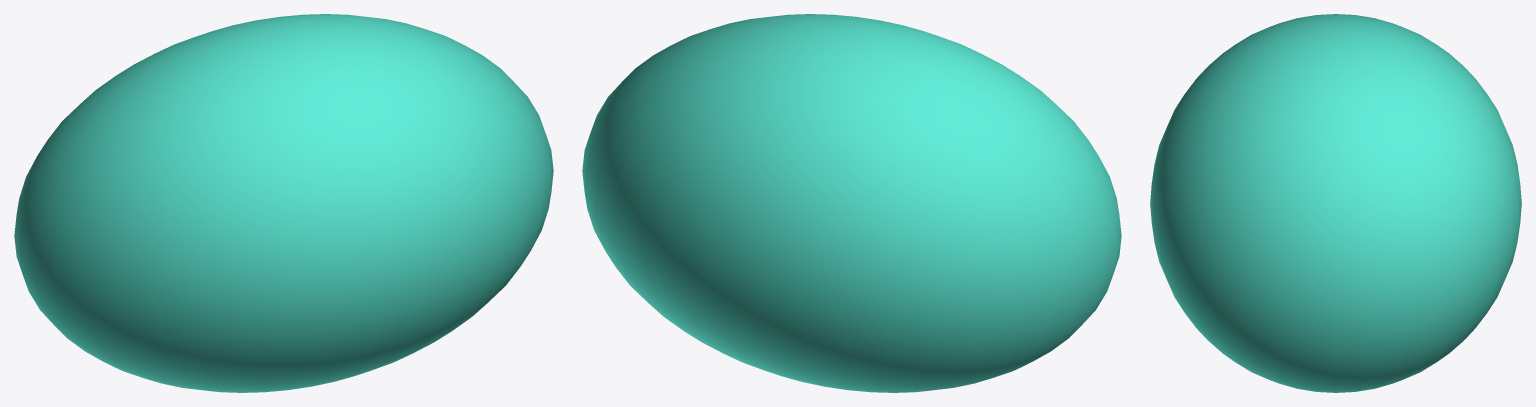
File: cell-membrane.glb
The picture shows the model from 3 angles, left to right: view 1: azimuth 30°, elevation 25°; view 2: azimuth 150°, elevation 25°; view 3: azimuth 270°, elevation 25°; orthographic projection. The views are drawn at different scales.
Parts seen in each view (by area): view 1: Cell Membrane; view 2: Cell Membrane; view 3: Cell Membrane.
Boxes of the visible parts, x1=… form: Cell Membrane: x1=14, y1=14, x2=553, y2=392; Cell Membrane: x1=582, y1=14, x2=1121, y2=392; Cell Membrane: x1=1150, y1=14, x2=1521, y2=392.
Size of the model in its own units: 4.1 by 2.56 by 2.84.
